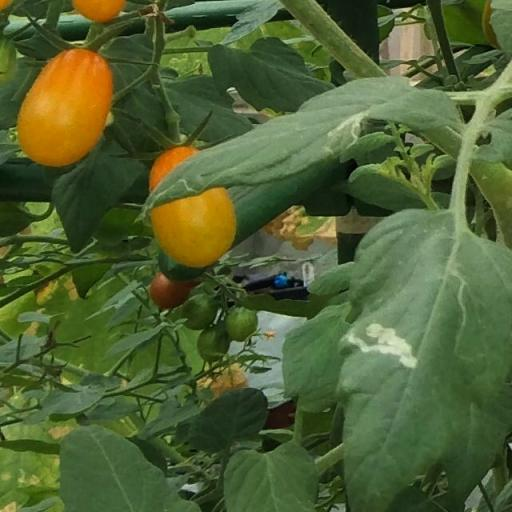disease_tomato: (338, 208, 512, 512)
